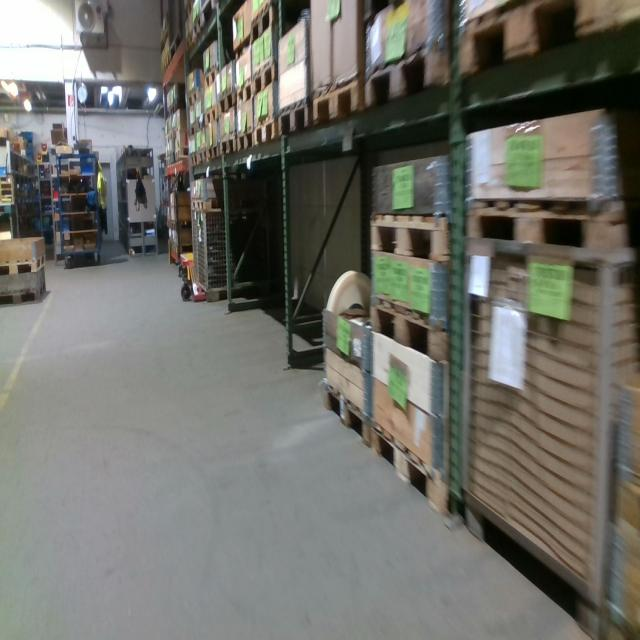pallet: (461, 191, 635, 258), (370, 407, 460, 524), (359, 42, 453, 127), (368, 288, 448, 365), (369, 215, 450, 261), (456, 7, 507, 77), (325, 377, 373, 442), (310, 76, 365, 125), (276, 95, 314, 141), (0, 279, 48, 307), (0, 251, 46, 279), (251, 2, 278, 45), (255, 117, 284, 153), (251, 58, 276, 98), (216, 86, 240, 120), (234, 74, 254, 109), (190, 197, 227, 215), (236, 124, 255, 159), (220, 131, 238, 166), (208, 65, 223, 93), (204, 102, 220, 128), (174, 145, 189, 168), (189, 85, 205, 104), (209, 140, 222, 163), (170, 100, 184, 119), (199, 150, 208, 168), (187, 32, 195, 51), (191, 153, 199, 171), (170, 127, 180, 137)
pallet_truck: (166, 165, 206, 302)
stillage: (456, 226, 639, 637), (196, 201, 277, 304), (166, 3, 187, 58), (189, 203, 198, 288)
